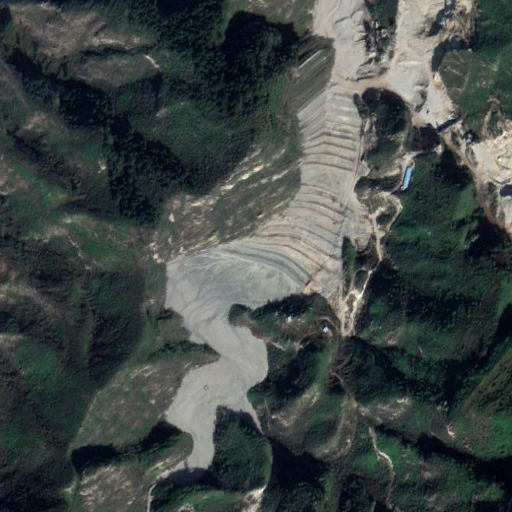tp: (164, 88, 364, 485)
